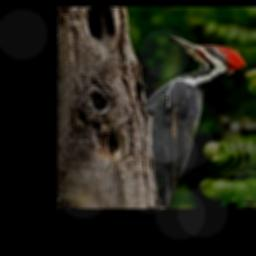Woodpecker: (144, 35, 246, 209)
